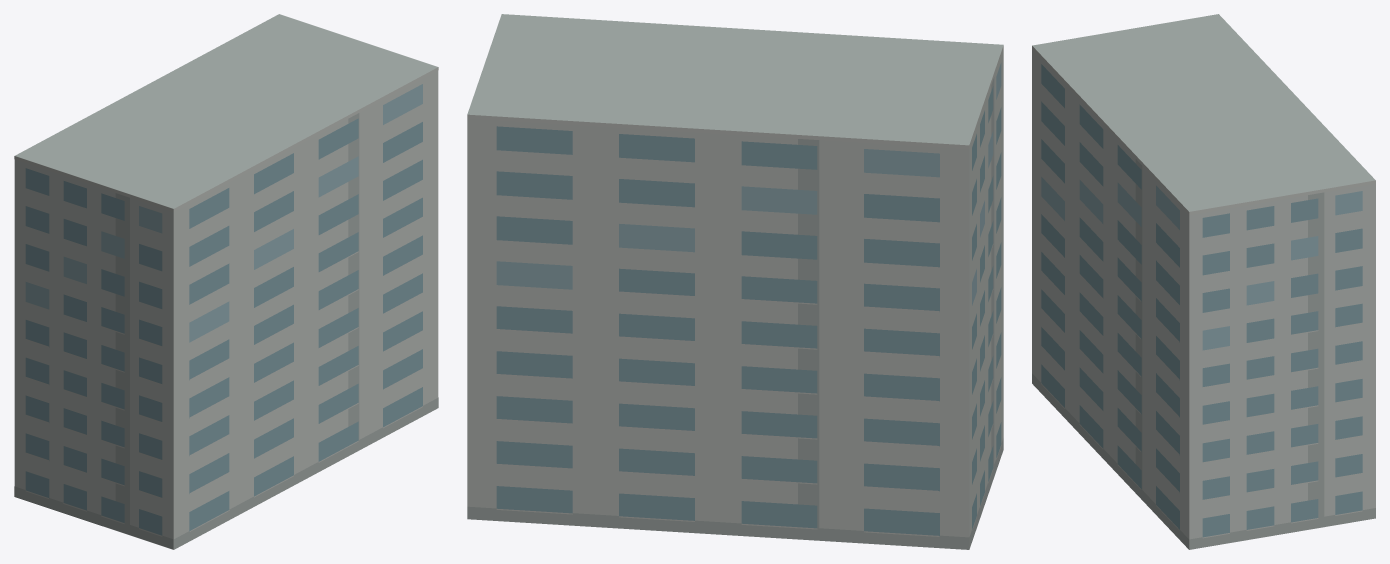
Rendered from residential-3770d359-eff4-428e-8798-b71f0a746e37.glb.
3 renders of one model, left to right at view 1: azimuth 30°, elevation 25°; view 2: azimuth 150°, elevation 25°; view 3: azimuth 270°, elevation 25°, orthographic. The views are drawn at different scales.
Parts seen in each view (by area): view 1: residential-3770d359-eff4-428e-8798-b71f0a746e37.tmp; view 2: residential-3770d359-eff4-428e-8798-b71f0a746e37.tmp; view 3: residential-3770d359-eff4-428e-8798-b71f0a746e37.tmp.
Boxes of the visible parts, x1,y1,x2,y2 form: residential-3770d359-eff4-428e-8798-b71f0a746e37.tmp: (14,14,438,549); residential-3770d359-eff4-428e-8798-b71f0a746e37.tmp: (467,14,1003,549); residential-3770d359-eff4-428e-8798-b71f0a746e37.tmp: (1032,14,1375,549).
Bounding box in the file's own units: 31.39 × 25 × 23.05.
